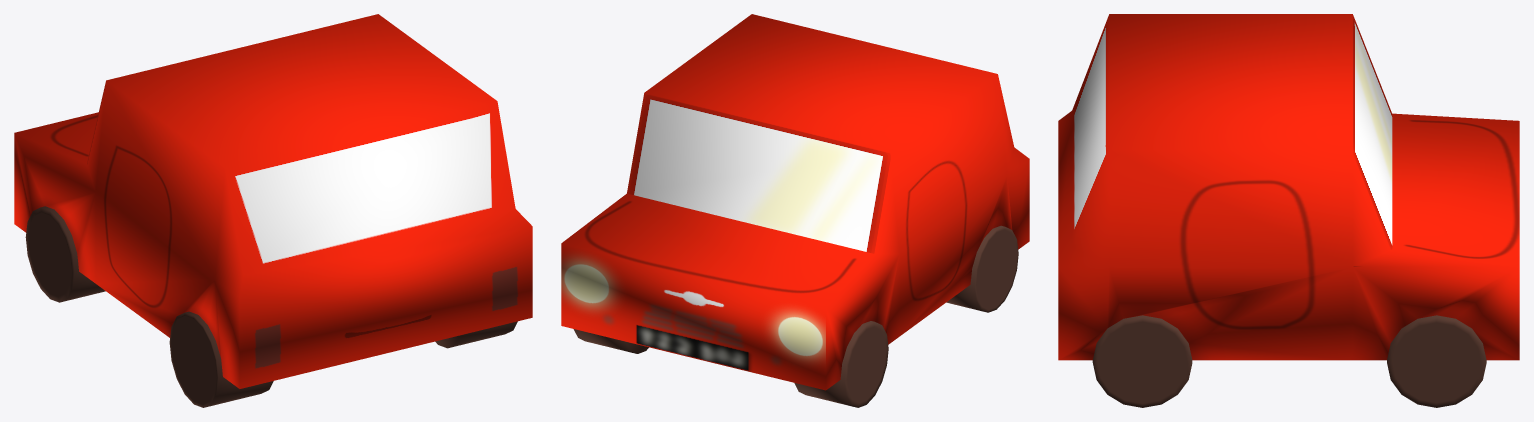
The model's file is MiniCar.fbx.
3 views of the same model, side by side, from view 1: azimuth 30°, elevation 25°; view 2: azimuth 150°, elevation 25°; view 3: azimuth 270°, elevation 25° (orthographic). The views are drawn at different scales.
Parts seen in each view (by area): view 1: Car, Wheel Back.001, Wheel Front.001, Wheel Back; view 2: Car, Wheel Front.001, Wheel Back.001, Wheel Front; view 3: Car, Wheel Front, Wheel Back.
Boxes of the visible parts, box(x1,y1,x2,y2) form: Car: box(14, 14, 532, 388); Wheel Back.001: box(169, 311, 273, 407); Wheel Front.001: box(25, 206, 105, 302); Wheel Back: box(435, 321, 517, 348); Car: box(561, 14, 1029, 390); Wheel Front.001: box(794, 321, 888, 407); Wheel Back.001: box(946, 225, 1018, 312); Wheel Front: box(573, 329, 648, 353); Car: box(1058, 14, 1519, 360); Wheel Front: box(1387, 315, 1486, 407); Wheel Back: box(1092, 315, 1192, 407).
Size of the model in its own units: 309 by 400 by 240.
